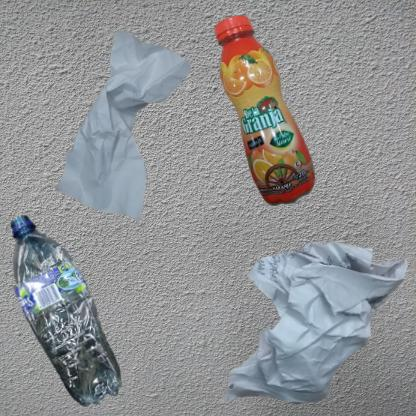botella: (213, 10, 322, 219), (10, 213, 123, 409)
papel: (10, 10, 255, 269), (213, 213, 416, 416)
